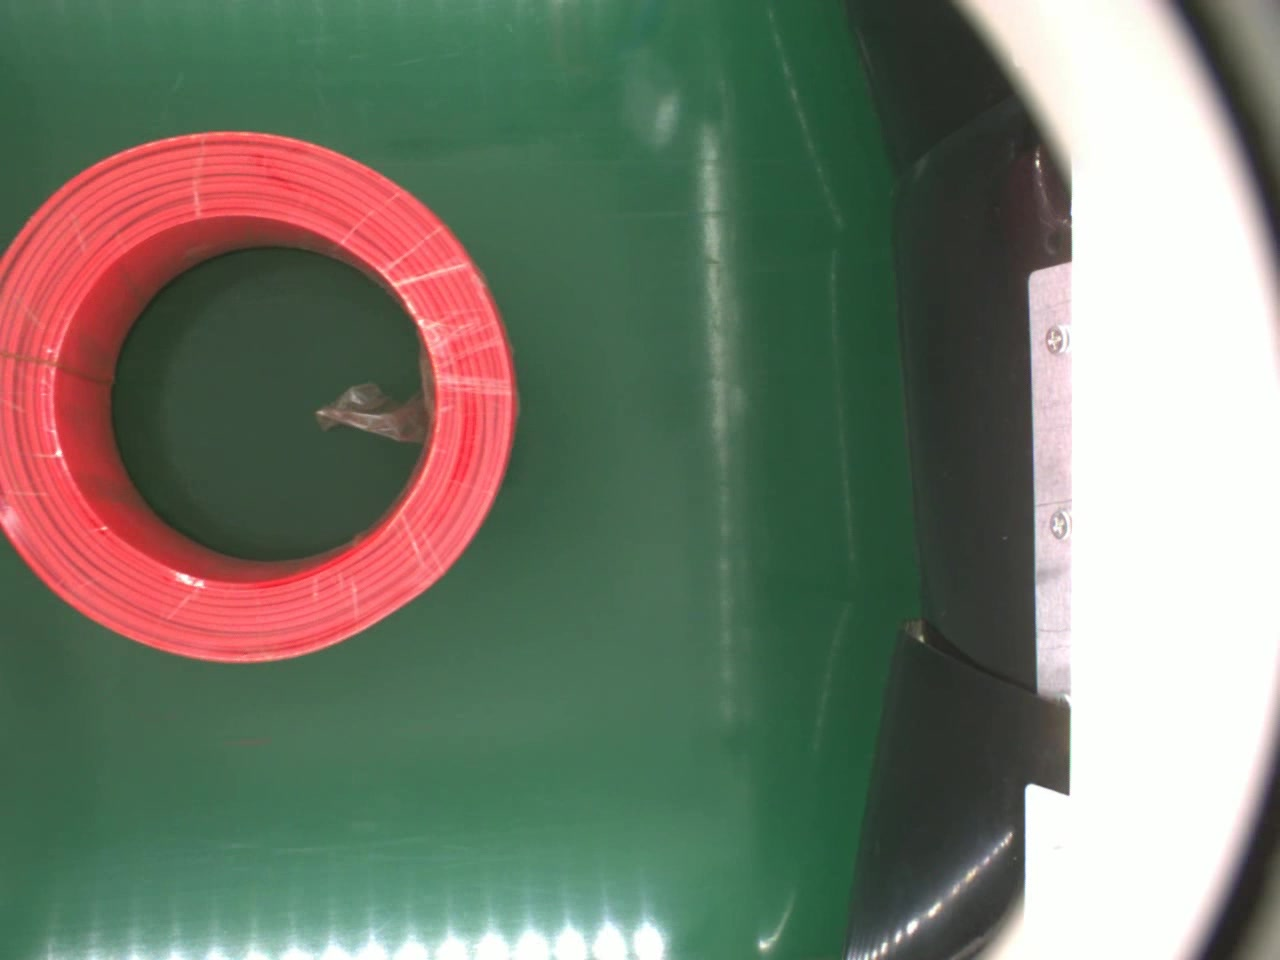red: (0, 127, 515, 671)
